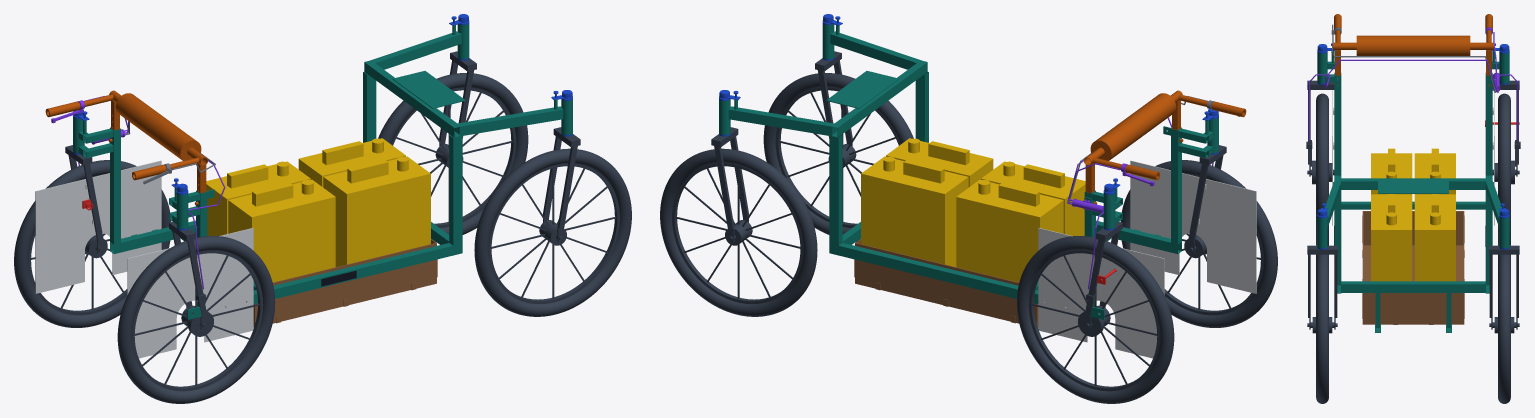
3 views of the same model, side by side, from view 1: azimuth 30°, elevation 25°; view 2: azimuth 150°, elevation 25°; view 3: azimuth 270°, elevation 25° (orthographic). The views are drawn at different scales.
Visible parts, largest first — view 1: 20 L jerrycan (x4, user's own), Skirt guard (x2), Rear wheel in fixed fork, 26 in (x2), Front wheel on swivel fork (x2), Steel frame with cradle carrier and assist mounts, Padded cradle, Hip bar and hand grips, Headsets and steering locks (4 sets), Hold-to-release brake: bail, spring unit, cables; view 2: 20 L jerrycan (x4, user's own), Skirt guard (x2), Rear wheel in fixed fork, 26 in (x2), Front wheel on swivel fork (x2), Steel frame with cradle carrier and assist mounts, Padded cradle, Hip bar and hand grips, Hold-to-release brake: bail, spring unit, cables, Headsets and steering locks (4 sets); view 3: Steel frame with cradle carrier and assist mounts, 20 L jerrycan (x4, user's own), Front wheel on swivel fork (x2), Padded cradle, Rear wheel in fixed fork, 26 in (x2), Hip bar and hand grips, Hold-to-release brake: bail, spring unit, cables, Headsets and steering locks (4 sets), Brake lever with parking latch, Skirt guard (x2).
Part boxes in pixels (bbox=[...]): 20 L jerrycan (x4, user's own): bbox=[206, 138, 430, 282]; Skirt guard (x2): bbox=[35, 160, 253, 358]; Rear wheel in fixed fork, 26 in (x2): bbox=[14, 145, 275, 403]; Front wheel on swivel fork (x2): bbox=[378, 51, 631, 316]; Steel frame with cradle carrier and assist mounts: bbox=[73, 23, 572, 327]; Padded cradle: bbox=[253, 239, 437, 326]; Hip bar and hand grips: bbox=[45, 90, 207, 205]; Headsets and steering locks (4 sets): bbox=[73, 14, 572, 230]; Hold-to-release brake: bail, spring unit, cables: bbox=[51, 96, 225, 289]; 20 L jerrycan (x4, user's own): bbox=[861, 138, 1085, 282]; Skirt guard (x2): bbox=[1038, 160, 1256, 358]; Rear wheel in fixed fork, 26 in (x2): bbox=[1016, 145, 1277, 403]; Front wheel on swivel fork (x2): bbox=[660, 51, 913, 316]; Steel frame with cradle carrier and assist mounts: bbox=[719, 23, 1218, 327]; Padded cradle: bbox=[854, 239, 1038, 326]; Hip bar and hand grips: bbox=[1084, 90, 1246, 204]; Hold-to-release brake: bail, spring unit, cables: bbox=[1067, 117, 1213, 289]; Headsets and steering locks (4 sets): bbox=[719, 14, 1218, 230]; Steel frame with cradle carrier and assist mounts: bbox=[1317, 51, 1509, 332]; 20 L jerrycan (x4, user's own): bbox=[1371, 148, 1455, 281]; Front wheel on swivel fork (x2): bbox=[1307, 245, 1519, 403]; Padded cradle: bbox=[1362, 211, 1464, 324]; Rear wheel in fixed fork, 26 in (x2): bbox=[1306, 80, 1520, 245]; Hip bar and hand grips: bbox=[1333, 14, 1493, 86]; Hold-to-release brake: bail, spring unit, cables: bbox=[1308, 27, 1518, 140]; Headsets and steering locks (4 sets): bbox=[1317, 43, 1509, 249]; Brake lever with parking latch: bbox=[1331, 24, 1495, 92]; Skirt guard (x2): bbox=[1332, 90, 1494, 225].
Bounding box in the file's own units: 2.2 × 0.9949 × 0.908.
